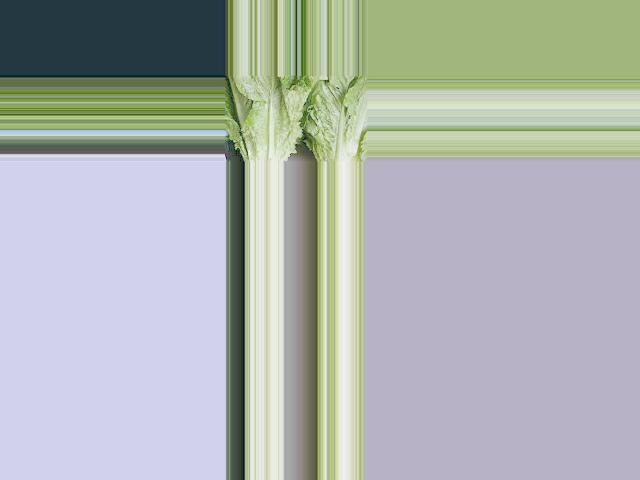lettuce: (307, 80, 363, 162)
